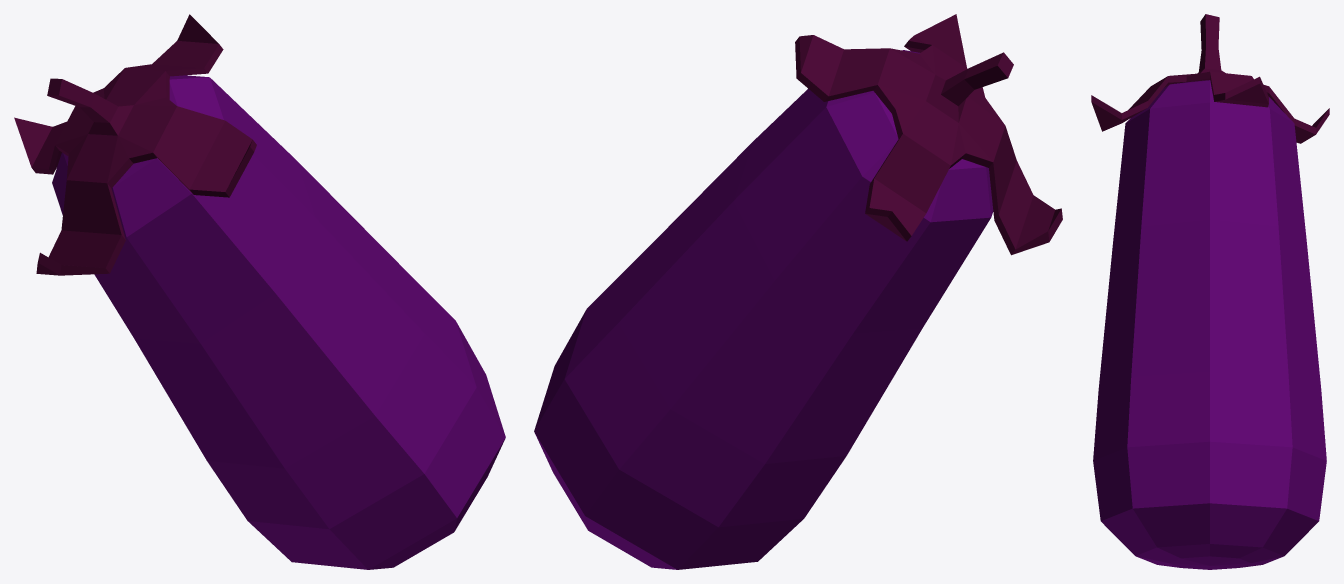
File: Eggplant_01.fbx
3 views of the same model, side by side, from view 1: azimuth 30°, elevation 25°; view 2: azimuth 150°, elevation 25°; view 3: azimuth 270°, elevation 25° (orthographic). The views are drawn at different scales.
Visible parts, largest first — view 1: Eggplant_01; view 2: Eggplant_01; view 3: Eggplant_01.
Boxes of the visible parts, box(x1,y1,x2,y2) form: Eggplant_01: box(14, 14, 505, 569); Eggplant_01: box(534, 14, 1062, 569); Eggplant_01: box(1091, 14, 1329, 569).
Size of the model in its own units: 6.31 by 7.17 by 3.48.
